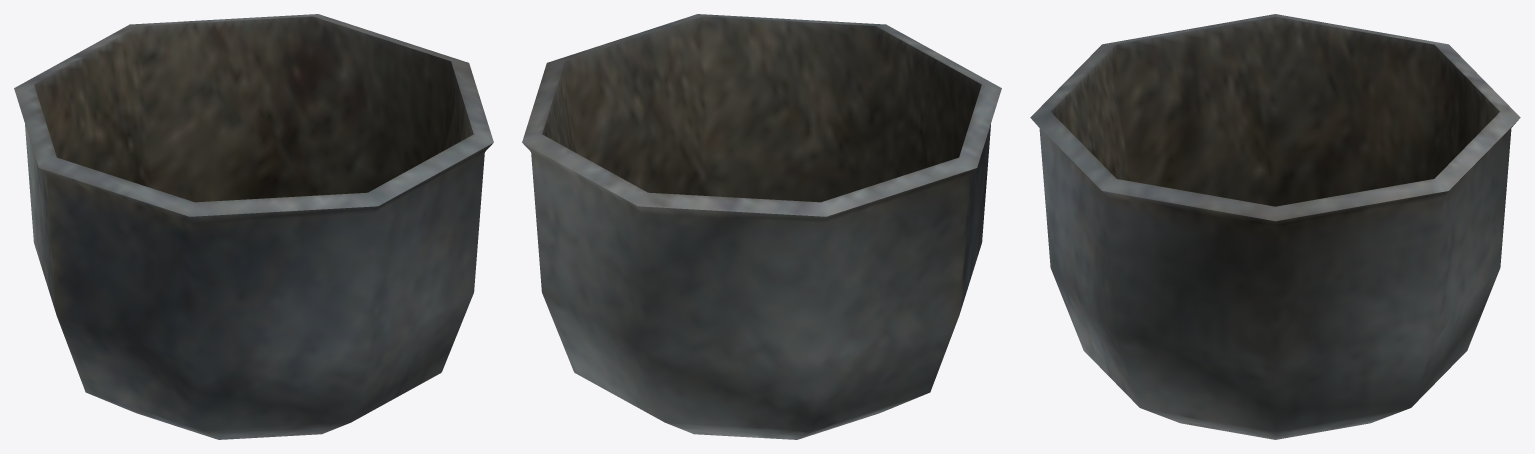
The model's file is Bowl_T01.FBX.
3 renders of one model, left to right at view 1: azimuth 30°, elevation 25°; view 2: azimuth 150°, elevation 25°; view 3: azimuth 270°, elevation 25°, orthographic.
Parts seen in each view (by area): view 1: Bowl_T01; view 2: Bowl_T01; view 3: Bowl_T01.
Boxes of the visible parts, bbox=[...] form: Bowl_T01: bbox=[14, 14, 493, 439]; Bowl_T01: bbox=[522, 14, 1001, 439]; Bowl_T01: bbox=[1030, 14, 1520, 439].
Size of the model in its own units: 24.13 by 14.73 by 24.13.
